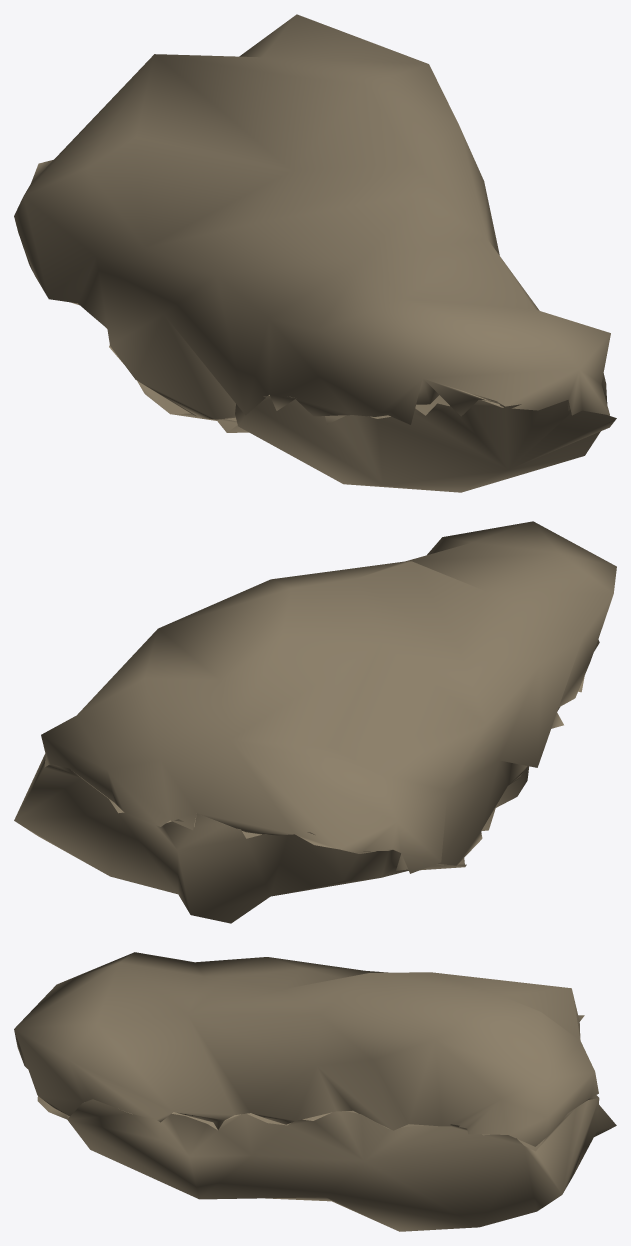
File: rock-mossy-c-lod1.glb
3 views of the same model, one above another, from view 1: azimuth 30°, elevation 25°; view 2: azimuth 150°, elevation 25°; view 3: azimuth 270°, elevation 25° (orthographic). The views are drawn at different scales.
Visible parts, largest first — view 1: rock-mossy-c.001; view 2: rock-mossy-c.001; view 3: rock-mossy-c.001.
Boxes of the visible parts, <box> form: rock-mossy-c.001: <box>14,14,616,492</box>; rock-mossy-c.001: <box>14,521,616,923</box>; rock-mossy-c.001: <box>14,952,616,1231</box>.
Size of the model in its own units: 1.79 by 1.23 by 3.01.
